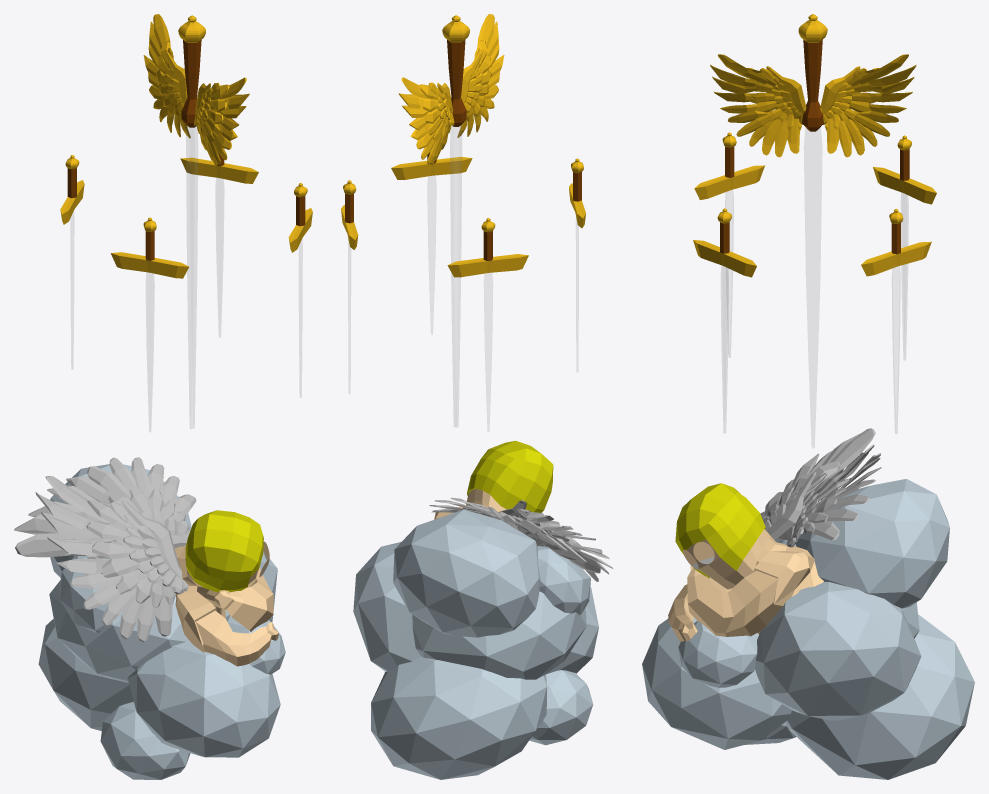
File: Virtud.fbx
The picture shows the model from 3 angles, left to right: view 1: azimuth 30°, elevation 25°; view 2: azimuth 150°, elevation 25°; view 3: azimuth 270°, elevation 25°; orthographic projection. The views are drawn at different scales.
Parts seen in each view (by area): view 1: Cylinder.070, Icosphere.002, Cylinder.069, Cube.005, Cube.006, Icosphere.001, Icosphere.003, Icosphere.005, Cylinder.075, Cylinder.076, Cube, Cylinder.073 (+9 smaller); view 2: Icosphere.003, Icosphere.006, Icosphere.001, Icosphere, Cube.006, Cylinder.076, Icosphere.005, Cylinder.075, Icosphere.007, Cube, Cylinder.069, Cylinder.073 (+9 smaller); view 3: Icosphere, Icosphere.003, Icosphere.006, Cube.005, Icosphere.002, Cylinder.075, Cylinder.076, Cube.006, Cube, Cylinder.069, Icosphere.004, Cylinder.070 (+9 smaller).
Boxes of the visible parts, x1,y1,x2,y2 form: Cylinder.070: [35, 476, 188, 642]; Icosphere.002: [127, 640, 280, 757]; Cylinder.069: [14, 457, 196, 570]; Cube.005: [175, 545, 278, 666]; Cube.006: [185, 510, 263, 592]; Icosphere.001: [49, 580, 189, 681]; Icosphere.003: [38, 619, 133, 730]; Icosphere.005: [100, 701, 190, 779]; Cylinder.075: [143, 14, 190, 138]; Cylinder.076: [194, 77, 249, 165]; Cube: [186, 126, 197, 428]; Cylinder.073: [178, 15, 205, 127]; Icosphere.003: [371, 656, 546, 779]; Icosphere.006: [393, 509, 540, 637]; Icosphere.001: [412, 591, 586, 679]; Icosphere: [353, 542, 421, 671]; Cube.006: [467, 440, 553, 512]; Cylinder.076: [457, 14, 504, 137]; Icosphere.005: [529, 670, 593, 745]; Cylinder.075: [398, 77, 454, 164]; Icosphere.007: [537, 546, 590, 614]; Cube: [450, 126, 461, 427]; Cylinder.069: [429, 497, 600, 573]; Cylinder.073: [442, 15, 469, 126]; Icosphere: [755, 582, 921, 720]; Icosphere.003: [785, 614, 974, 779]; Icosphere.006: [795, 479, 949, 608]; Cube.005: [668, 529, 823, 641]; Icosphere.002: [642, 617, 791, 749]; Cylinder.075: [820, 54, 916, 157]; Cylinder.076: [710, 54, 806, 157]; Cube.006: [675, 483, 765, 578]; Cube: [804, 127, 821, 447]; Cylinder.069: [778, 444, 881, 547]; Icosphere.004: [678, 621, 758, 687]; Cylinder.070: [760, 428, 875, 540].
Bounding box in the file's own units: 171 × 473 × 186.
